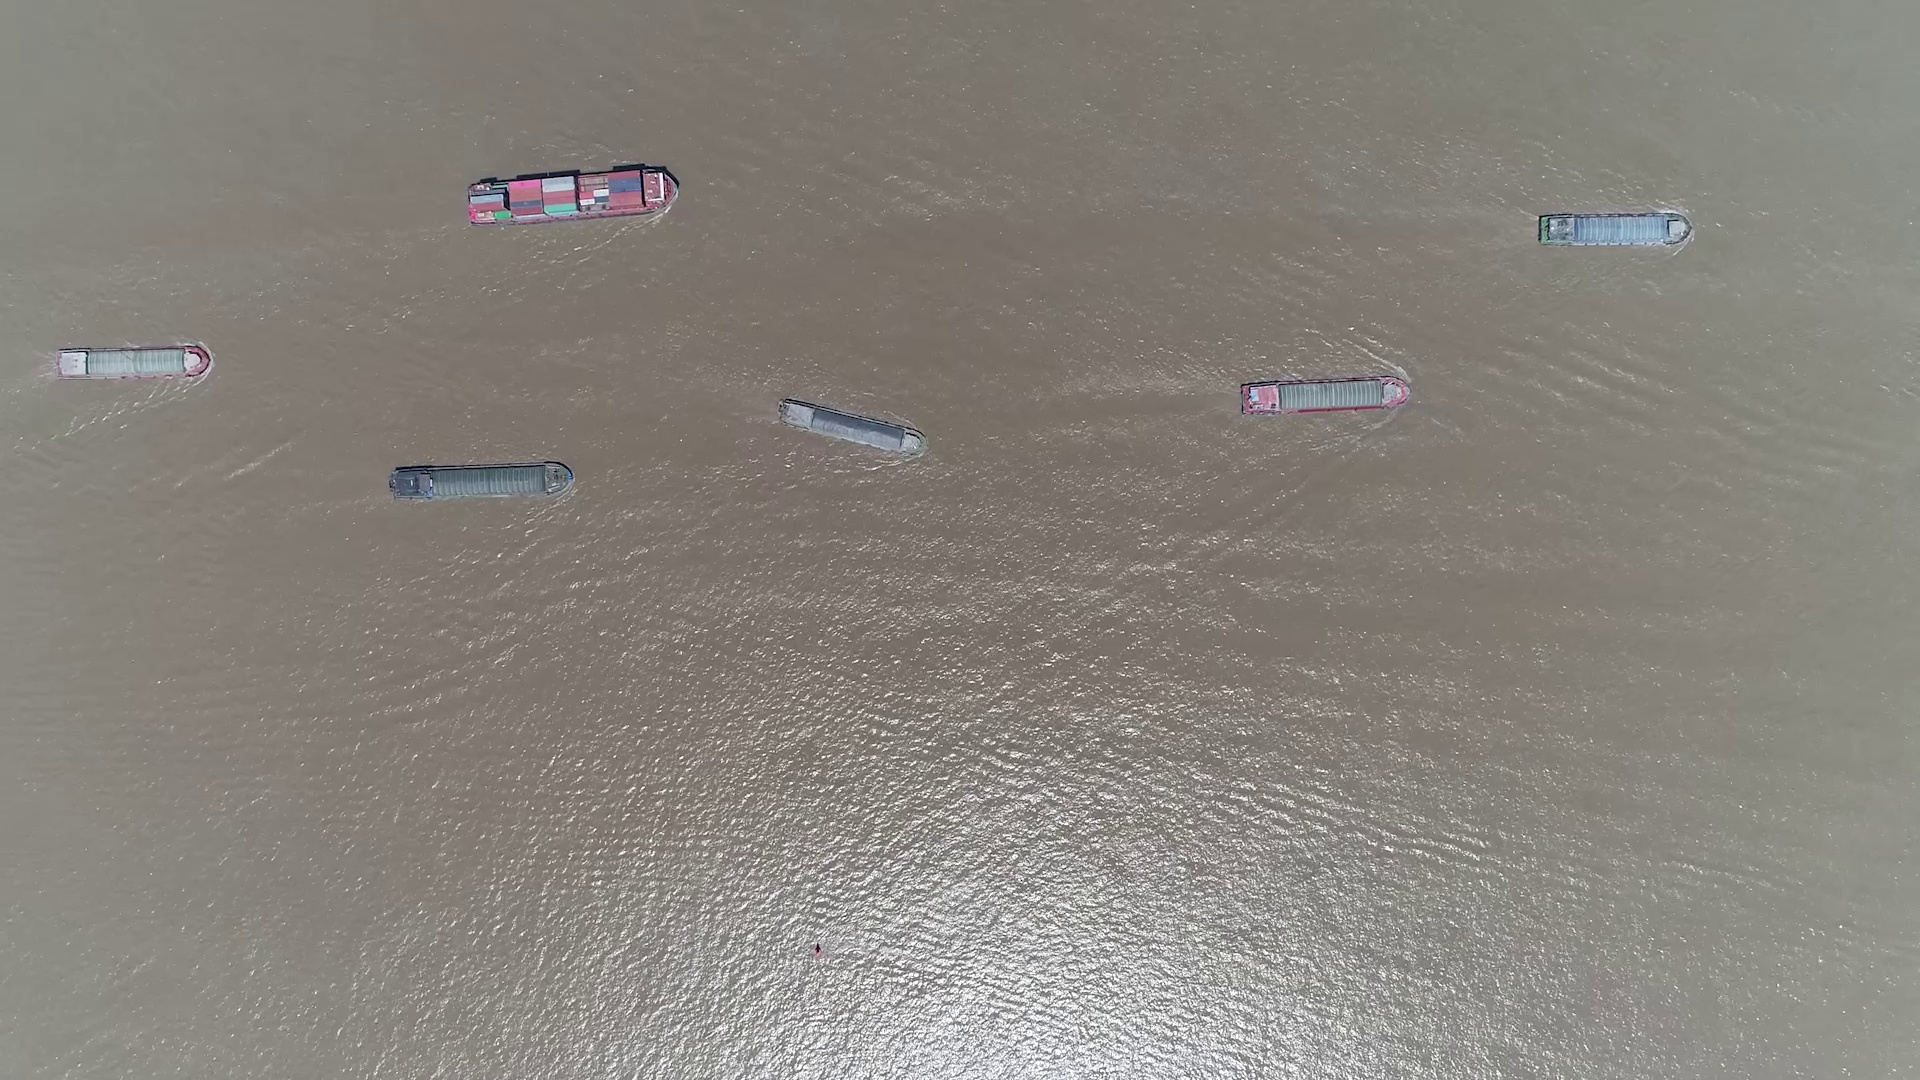ship: (465, 167, 679, 223), (777, 398, 923, 454), (388, 462, 574, 501), (1240, 375, 1411, 415), (51, 345, 210, 378), (1539, 212, 1688, 247)
